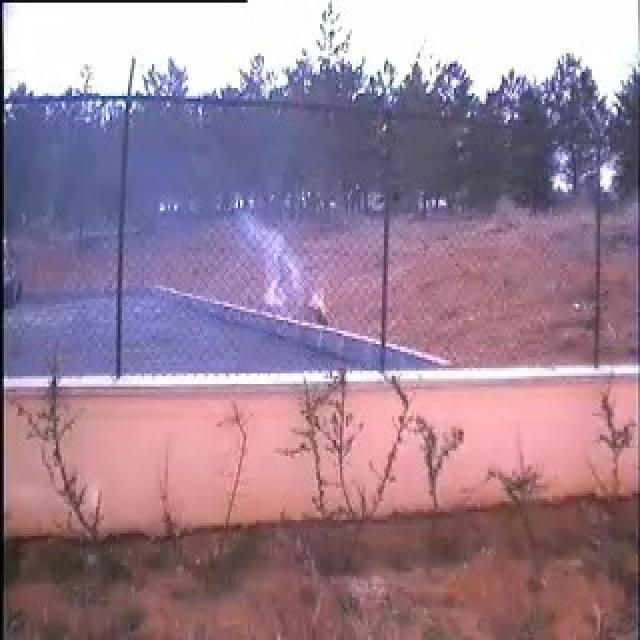smoke: (129, 168, 311, 350)
